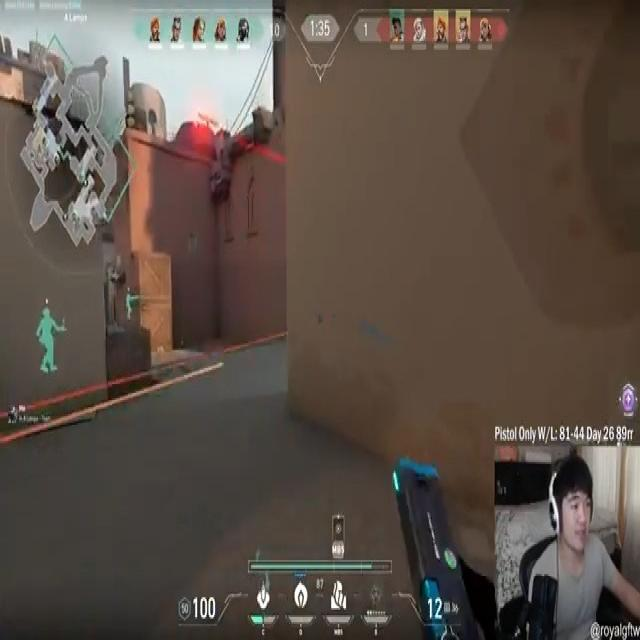ally behind wall: (37, 304, 67, 376), (124, 288, 138, 322)
